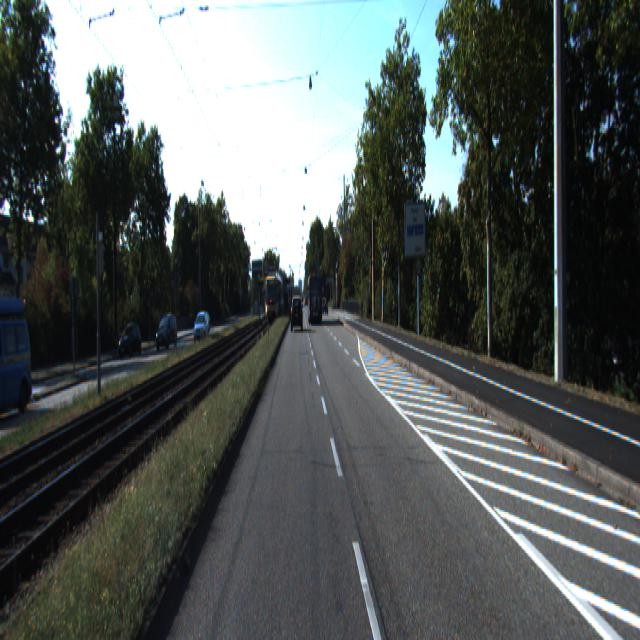Car: (0, 306, 37, 424), (156, 315, 178, 352), (307, 275, 323, 324), (193, 313, 210, 346), (291, 297, 303, 333)
